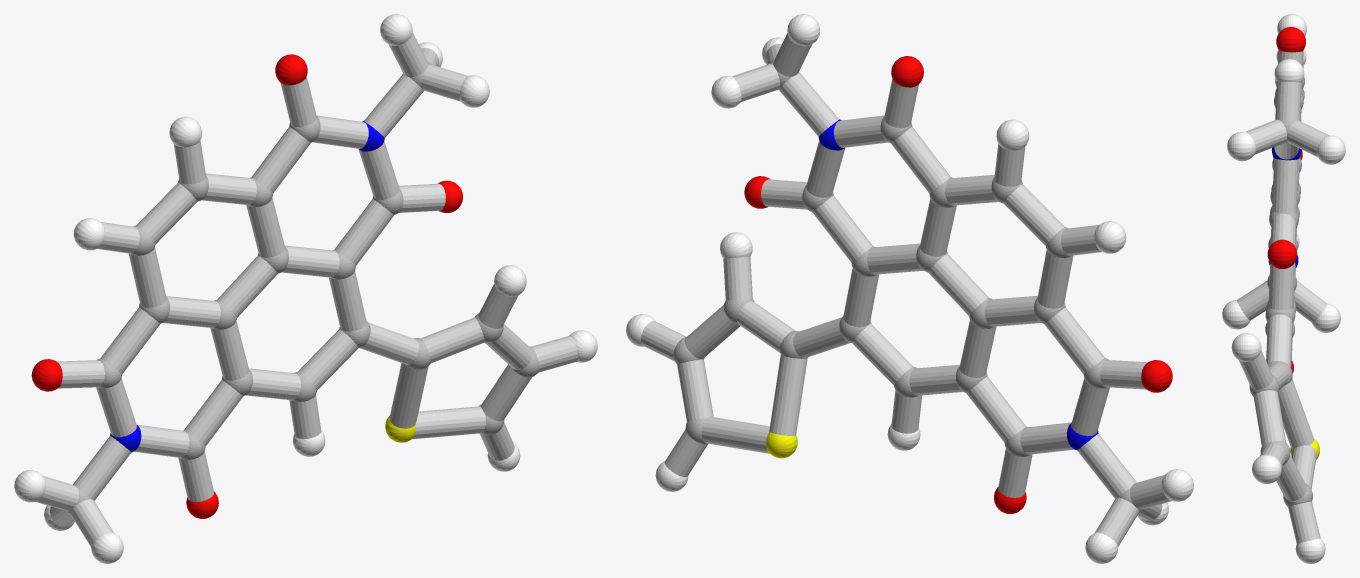
File: Dimethyl_Naphthalene_Dicarboximide_Phi_5_Theta_20_Thiophene.glb
3 renders of one model, left to right at view 1: azimuth 30°, elevation 25°; view 2: azimuth 150°, elevation 25°; view 3: azimuth 270°, elevation 25°, orthographic. The views are drawn at different scales.
Visible parts, largest first — view 1: grp14119, grp7241, grp1, grp12309, grp11585; view 2: grp14119, grp7241, grp1, grp12309, grp11585; view 3: grp14119, grp7241, grp1, grp12309.
Boxes of the visible parts, bbox=[...] form: grp14119: bbox=[35, 32, 578, 546]; grp7241: bbox=[14, 14, 597, 563]; grp1: bbox=[66, 61, 539, 514]; grp12309: bbox=[31, 54, 463, 518]; grp11585: bbox=[110, 121, 384, 452]; grp14119: bbox=[640, 33, 1171, 546]; grp7241: bbox=[626, 14, 1193, 563]; grp1: bbox=[673, 60, 1143, 512]; grp12309: bbox=[744, 56, 1172, 513]; grp11585: bbox=[818, 119, 1098, 450]; grp14119: bbox=[1237, 50, 1328, 543]; grp7241: bbox=[1222, 14, 1345, 563]; grp1: bbox=[1249, 76, 1312, 506]; grp12309: bbox=[1267, 27, 1305, 373].
Size of the model in its own units: 12.07 by 9.97 by 2.49.
